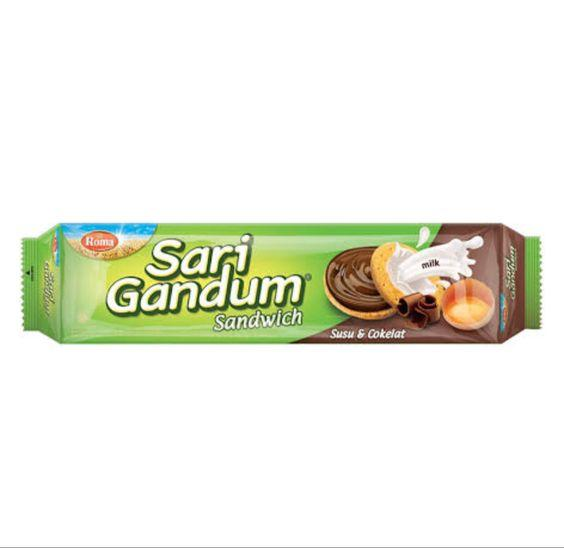Plastik: (17, 214, 544, 352)
